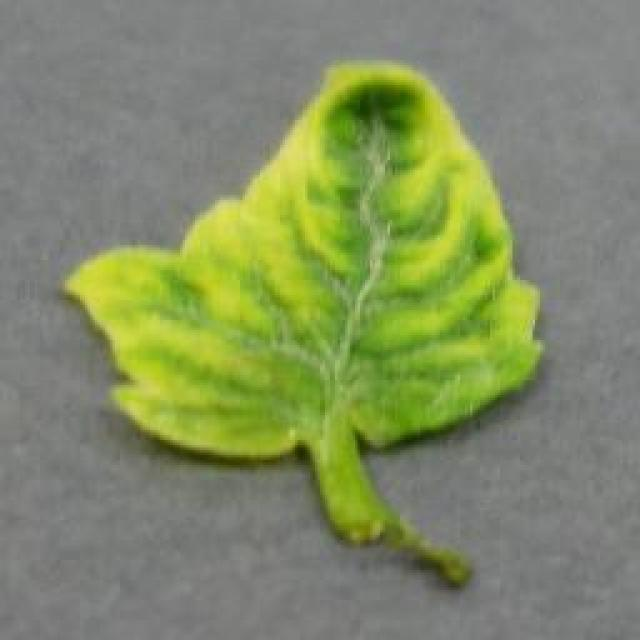Tomato yellow virus leaf: (66, 49, 544, 463)
